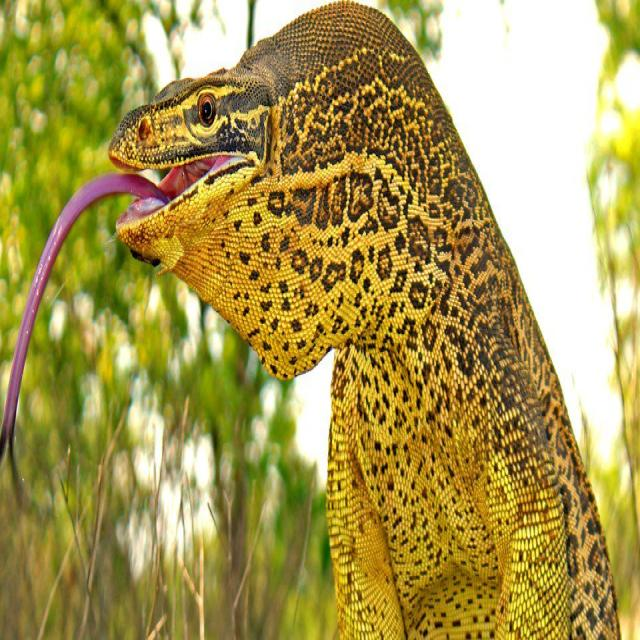Lizard: (0, 12, 611, 640)
